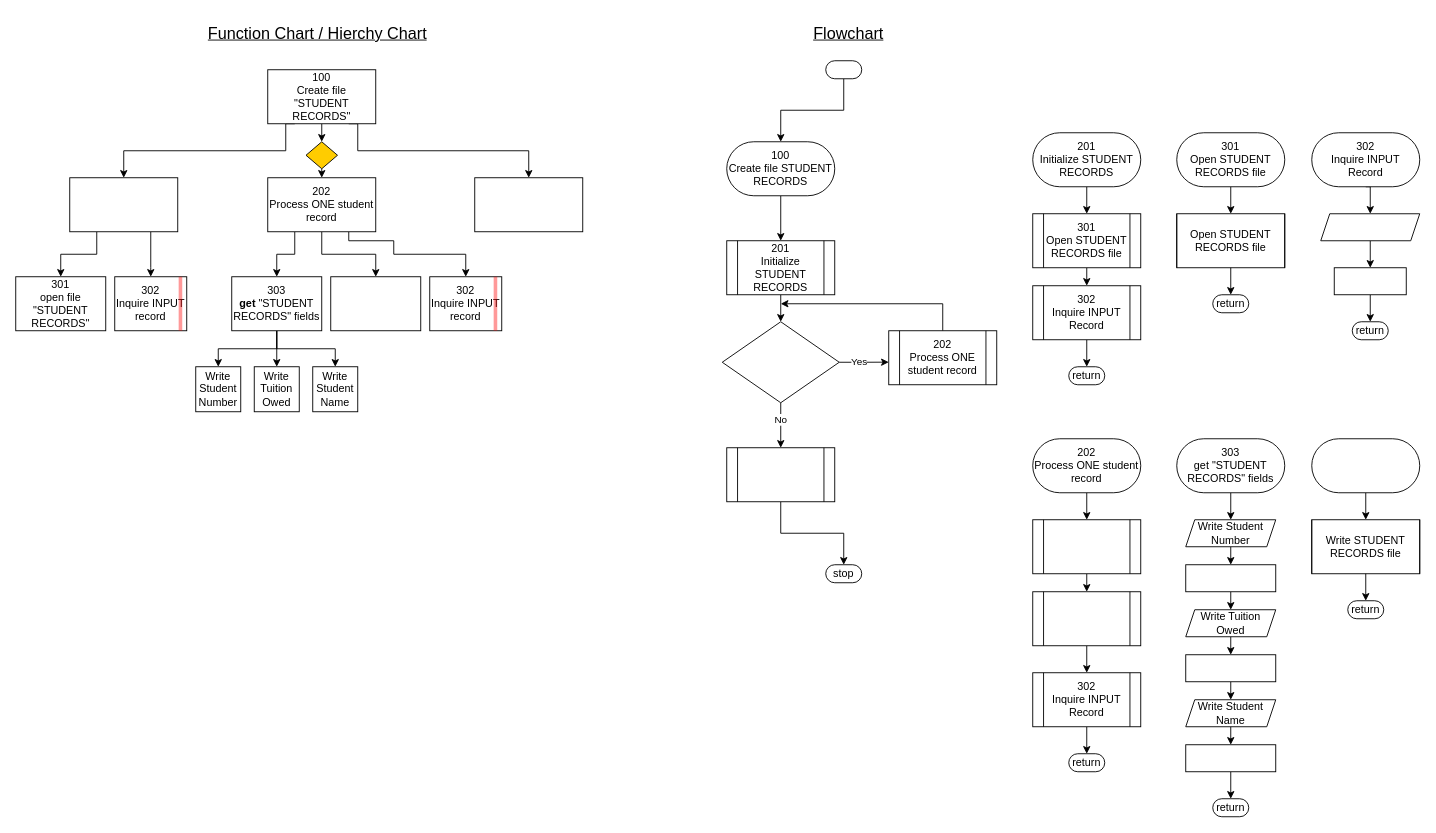
This 1436x833 diagram has some shape labels left out. The shapes that lost their labels are listed below. From the top down, each one's box as (x1, y1, x2, y2) in pixels, then its label:
(825, 60, 862, 79): start
(69, 177, 178, 232): 201 Initialization
(474, 177, 583, 232): 203 Termination close file "STUDENT RECORDS"
(1320, 213, 1420, 241): Inquire Record?
(1333, 267, 1406, 295): Acuire Input for YES flag
(330, 276, 421, 331): 304 write "STUDENT RECORDS" fields
(721, 321, 839, 403): YES Flag = Y OR 1?
(726, 447, 835, 502): 203 Close file STUDENT RECORDS
(1311, 438, 1420, 493): 304 Write STUDENT RECORD fields
(1032, 519, 1141, 574): 303 get STUDENT RECORDS fields
(1185, 564, 1276, 592): Acquire Student Number
(1032, 591, 1141, 646): 304 Write STUDENT RECORDS fields
(1185, 654, 1276, 682): Acquire Tuition Owed
(1185, 744, 1276, 772): Acquire Student Name
